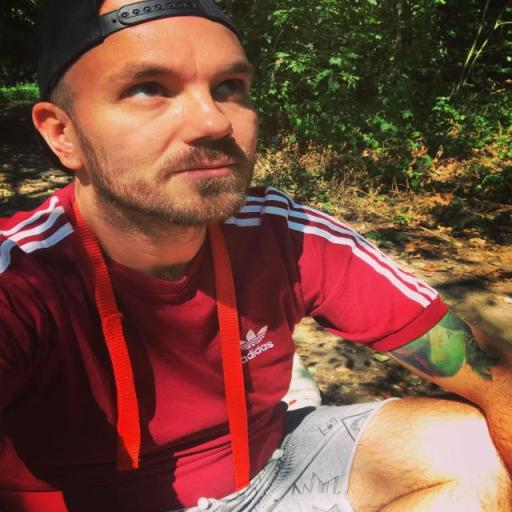Adidas: (238, 320, 276, 364)
